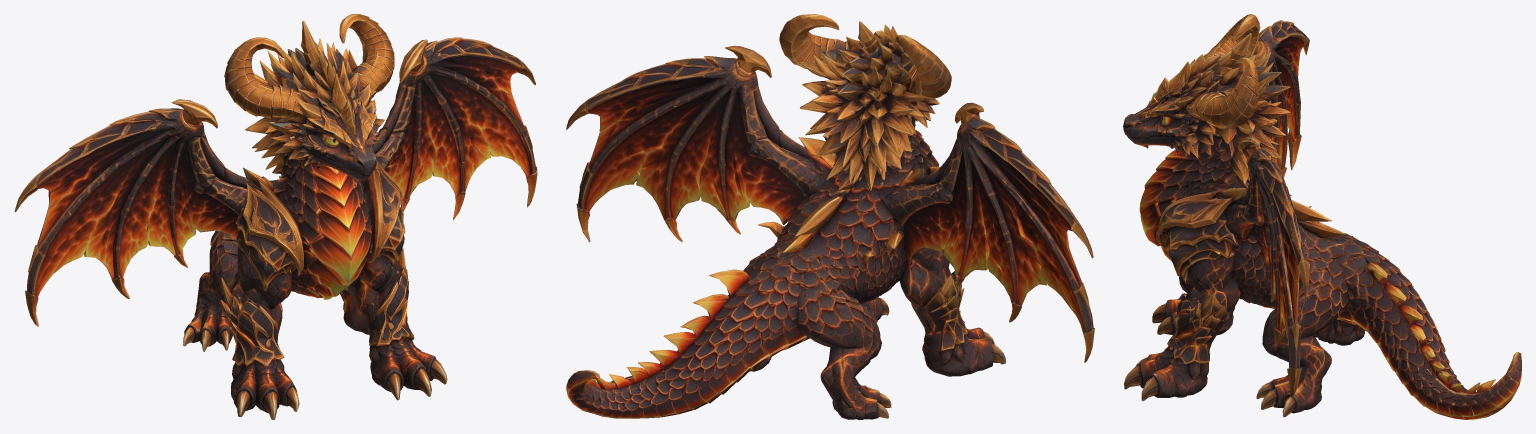
Rendered from dragon_emperor.glb.
3 renders of one model, left to right at view 1: azimuth 30°, elevation 25°; view 2: azimuth 150°, elevation 25°; view 3: azimuth 270°, elevation 25°, orthographic. The views are drawn at different scales.
Visible parts, largest first — view 1: Mesh_0; view 2: Mesh_0; view 3: Mesh_0.
Boxes of the visible parts, bbox=[...] form: Mesh_0: bbox=[14, 14, 537, 419]; Mesh_0: bbox=[566, 14, 1094, 419]; Mesh_0: bbox=[1123, 14, 1521, 419].
Bounding box in the file's own units: 1.9 × 1.2 × 1.32.
Materials: 1 (1 with a texture image).
